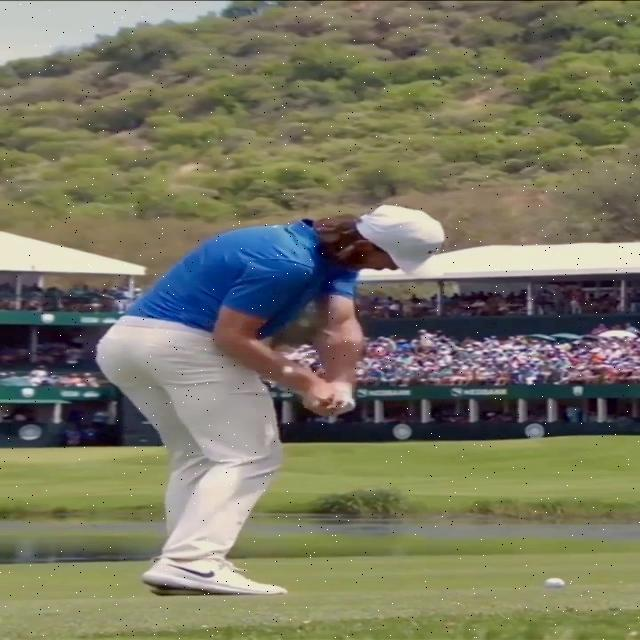GolfBall: (545, 576, 568, 590)
